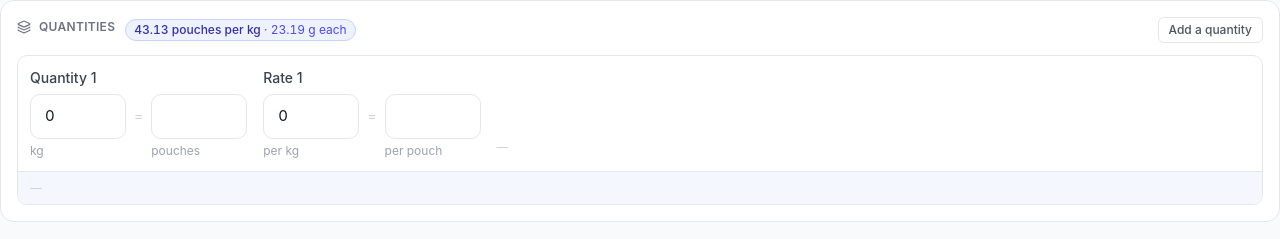
Scenario: QuantityFields › fills the kilograms in when the order arrives as a number of pouches
The width and height of the screenshot is (1280, 239).
Type "1000" into the field named "quantity 1 in pouches" at (199,116), box [151,94,247,138]
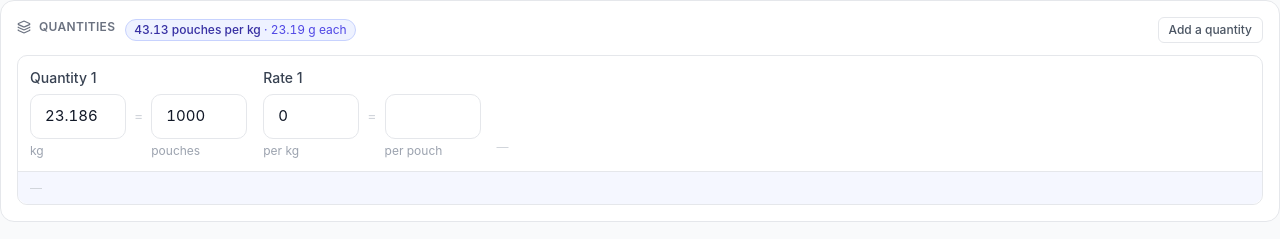
Now the field labelled "Quantity 1" holds "23.186", box [30,94,126,138]
